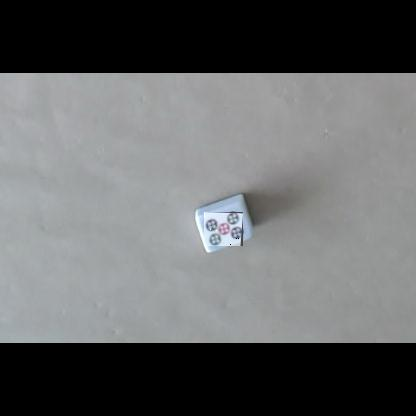5p: (204, 212, 243, 246)
